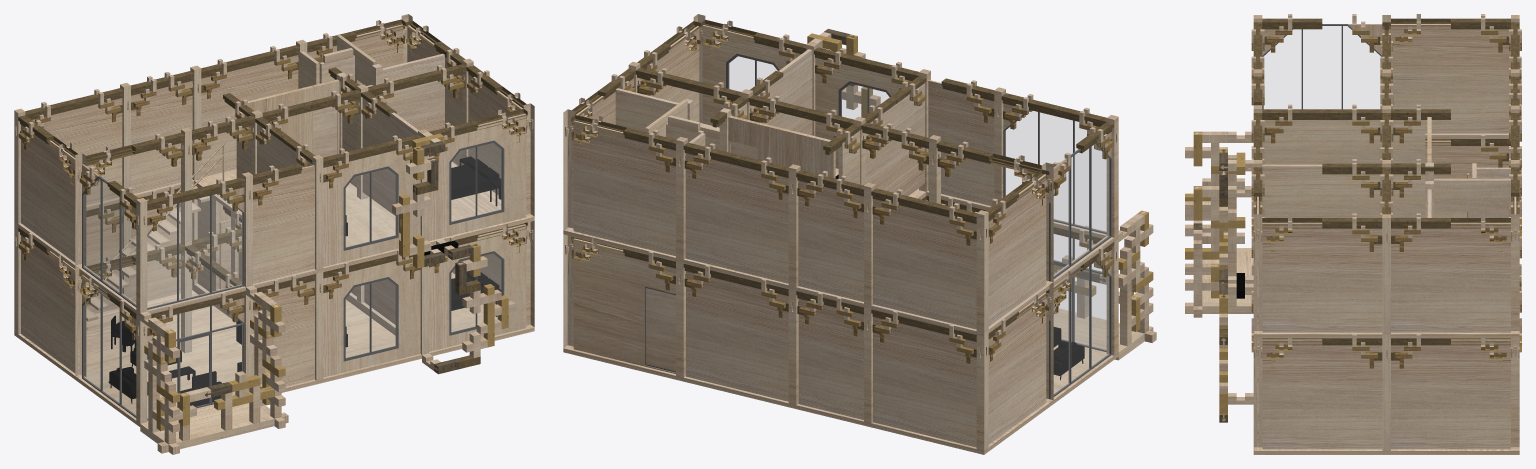
The model's file is 4bed-a.glb.
3 renders of one model, left to right at view 1: azimuth 30°, elevation 25°; view 2: azimuth 150°, elevation 25°; view 3: azimuth 270°, elevation 25°, orthographic. The views are drawn at different scales.
Size of the model in its own units: 11.45 by 6.2 by 7.85.
11 materials, 7 textured.
